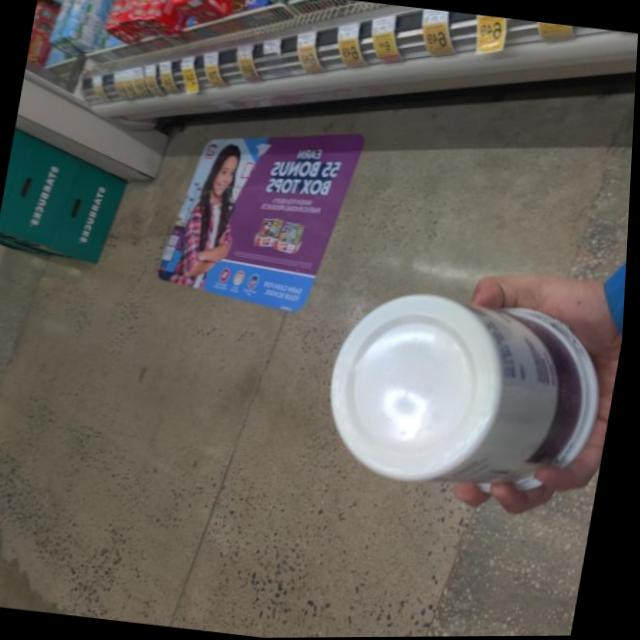Yogurt: (316, 289, 613, 506)
